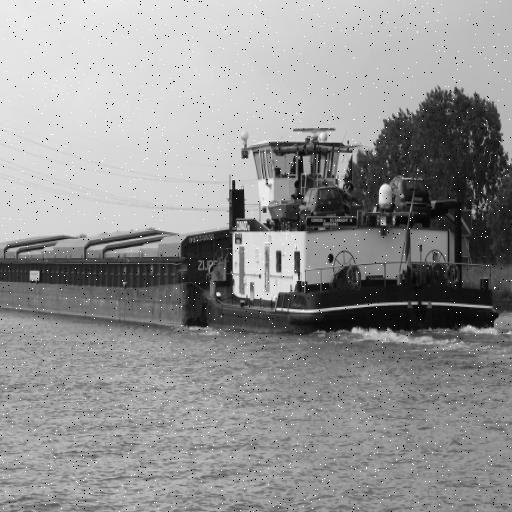tugboat: (206, 124, 504, 362)
